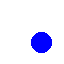circle: (31, 32, 51, 52)
